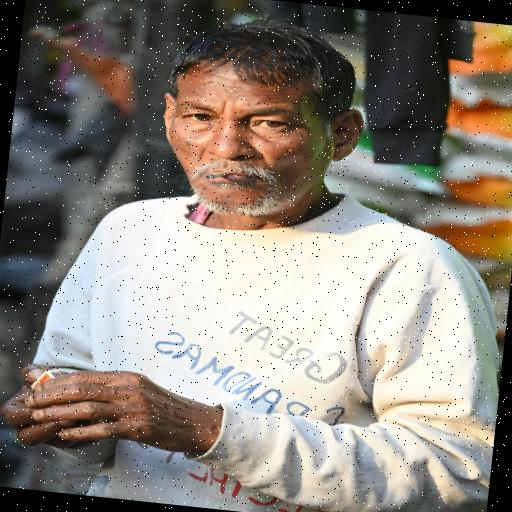terdeteksi merokok: (172, 86, 309, 220)
